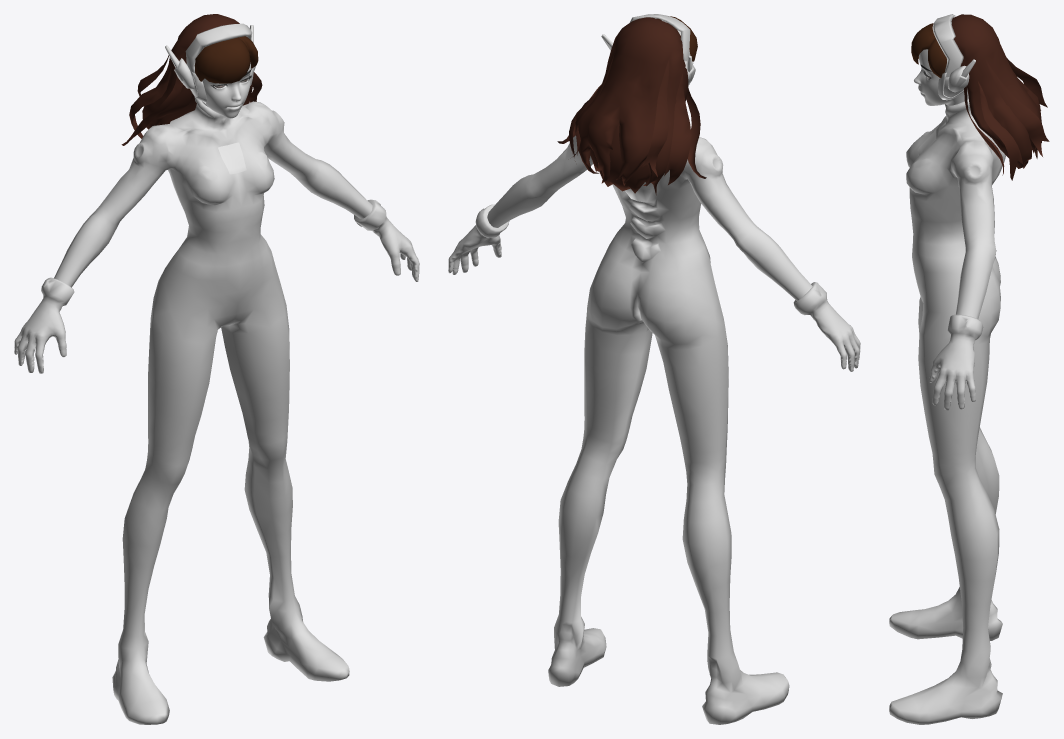
Rendered from DVA-TextureOnly.fbx.
3 renders of one model, left to right at view 1: azimuth 30°, elevation 25°; view 2: azimuth 150°, elevation 25°; view 3: azimuth 270°, elevation 25°, orthographic. The views are drawn at different scales.
Parts seen in each view (by area): view 1: OBJ_DVA_CL_Body, OBJ_DVA_CL_Hand, OBJ_DVA_CL_Hairbangs, OBJ_DVA_CL_HairBack, OBJ_DVA_CL_Headphones, OBJ_DVA_CL_HairStrands, OBJ_DVA_Face_Officer; view 2: OBJ_DVA_CL_Body, OBJ_DVA_CL_HairBack, OBJ_DVA_CL_Hand, OBJ_DVA_CL_HairStrands, OBJ_DVA_CL_HairBackLayer, OBJ_DVA_CL_Headphones; view 3: OBJ_DVA_CL_Body, OBJ_DVA_CL_HairBack, OBJ_DVA_CL_Hand, OBJ_DVA_CL_HairStrands, OBJ_DVA_CL_Headphones, OBJ_DVA_CL_Hairbangs, OBJ_DVA_Face_Officer.
Part boxes in pixels (x1=…): OBJ_DVA_CL_Body: x1=54, y1=97, x2=372, y2=724; OBJ_DVA_CL_Hand: x1=14, y1=199, x2=419, y2=373; OBJ_DVA_CL_Hairbangs: x1=194, y1=36, x2=258, y2=83; OBJ_DVA_CL_HairBack: x1=142, y1=14, x2=251, y2=129; OBJ_DVA_CL_Headphones: x1=165, y1=23, x2=255, y2=103; OBJ_DVA_CL_HairStrands: x1=121, y1=48, x2=262, y2=145; OBJ_DVA_Face_Officer: x1=191, y1=62, x2=251, y2=118; OBJ_DVA_CL_Body: x1=487, y1=135, x2=812, y2=724; OBJ_DVA_CL_HairBack: x1=576, y1=17, x2=688, y2=195; OBJ_DVA_CL_Hand: x1=448, y1=204, x2=860, y2=371; OBJ_DVA_CL_HairStrands: x1=557, y1=51, x2=706, y2=184; OBJ_DVA_CL_HairBackLayer: x1=590, y1=123, x2=649, y2=193; OBJ_DVA_CL_Headphones: x1=601, y1=14, x2=695, y2=85; OBJ_DVA_CL_Body: x1=889, y1=99, x2=1005, y2=724; OBJ_DVA_CL_HairBack: x1=951, y1=14, x2=1041, y2=168; OBJ_DVA_CL_Hand: x1=929, y1=314, x2=983, y2=410; OBJ_DVA_CL_HairStrands: x1=960, y1=57, x2=1049, y2=180; OBJ_DVA_CL_Headphones: x1=932, y1=14, x2=975, y2=100; OBJ_DVA_CL_Hairbangs: x1=911, y1=23, x2=946, y2=78; OBJ_DVA_Face_Officer: x1=914, y1=49, x2=968, y2=105.
Bounding box in the file's own units: 967 × 1547 × 344.
